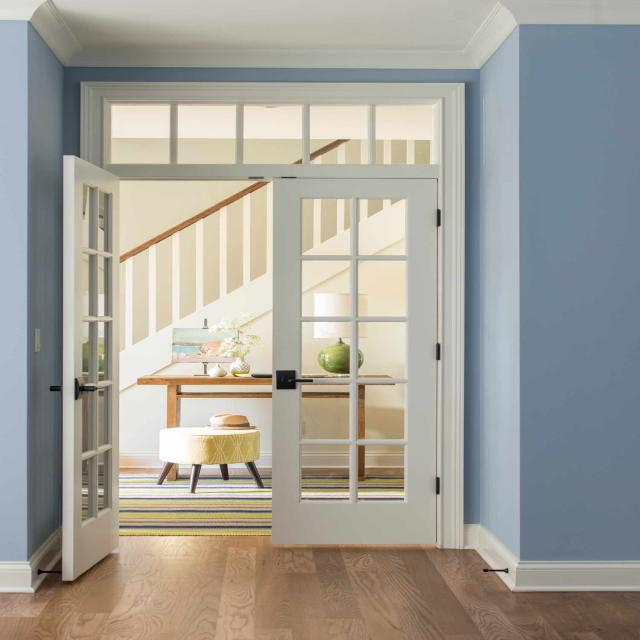door: (63, 81, 468, 581)
